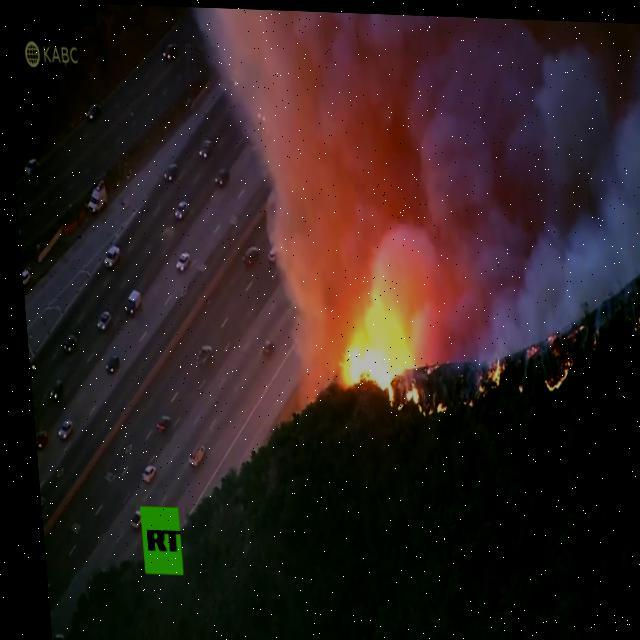Fire: (321, 298, 404, 402), (396, 383, 442, 413), (535, 360, 565, 388), (481, 354, 498, 384)
